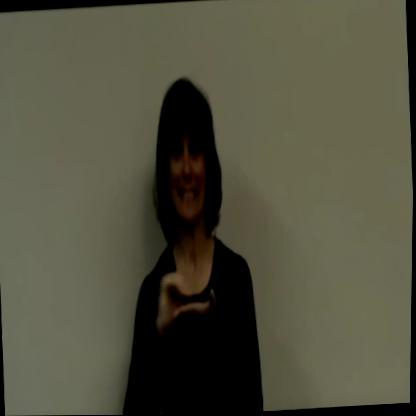ExcuseMe: (152, 249, 242, 349)
